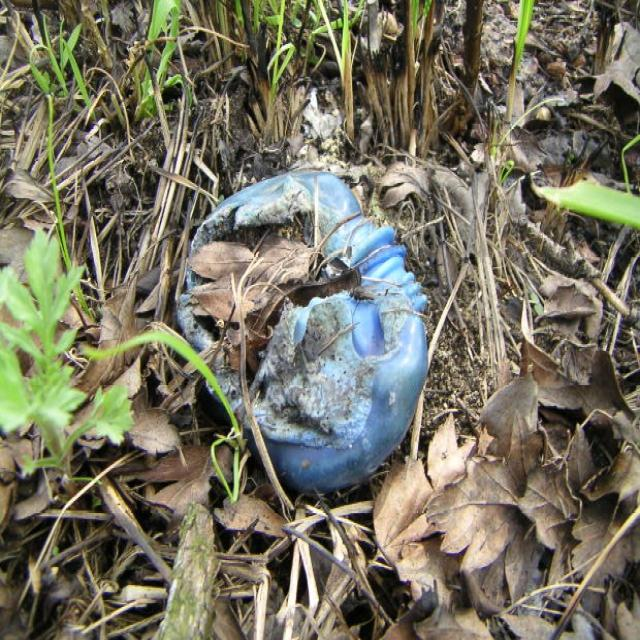trash: (138, 140, 592, 512)
